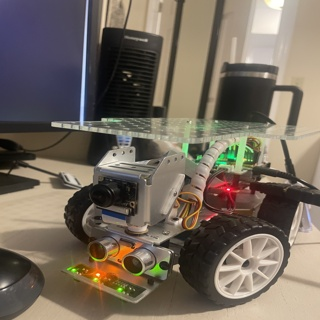vehicle: (48, 114, 319, 306)
